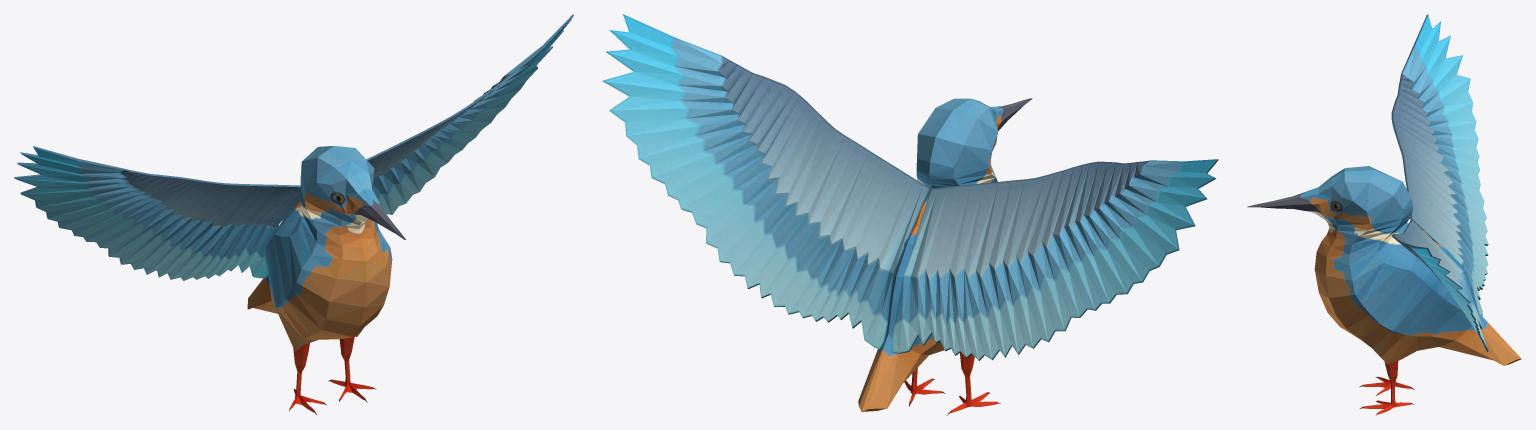
File: Kingfisher_01.FBX
3 renders of one model, left to right at view 1: azimuth 30°, elevation 25°; view 2: azimuth 150°, elevation 25°; view 3: azimuth 270°, elevation 25°, orthographic. The views are drawn at different scales.
Parts seen in each view (by area): view 1: Kingfisher_Right_Wing_01, Kingfisher_01, Kingfisher_Left_Wing_01, Kingfisher_Left_Leg_01, Kingfisher_Right_Leg_01; view 2: Kingfisher_Left_Wing_01, Kingfisher_Right_Wing_01, Kingfisher_01, Kingfisher_Right_Leg_01; view 3: Kingfisher_01, Kingfisher_Right_Wing_01, Kingfisher_Left_Wing_01, Kingfisher_Left_Leg_01, Kingfisher_Right_Leg_01.
Boxes of the visible parts, bbox=[...] form: Kingfisher_Right_Wing_01: bbox=[14, 146, 300, 280]; Kingfisher_01: bbox=[247, 146, 405, 351]; Kingfisher_Left_Wing_01: bbox=[366, 14, 573, 214]; Kingfisher_Left_Leg_01: bbox=[328, 336, 376, 402]; Kingfisher_Right_Leg_01: bbox=[289, 343, 326, 414]; Kingfisher_Left_Wing_01: bbox=[602, 14, 930, 348]; Kingfisher_Right_Wing_01: bbox=[891, 159, 1218, 360]; Kingfisher_01: bbox=[858, 98, 1032, 411]; Kingfisher_Right_Leg_01: bbox=[946, 352, 1000, 415]; Kingfisher_01: bbox=[1247, 166, 1521, 365]; Kingfisher_Right_Wing_01: bbox=[1391, 14, 1488, 316]; Kingfisher_Left_Wing_01: bbox=[1391, 219, 1488, 351]; Kingfisher_Left_Leg_01: bbox=[1359, 361, 1414, 415]; Kingfisher_Right_Leg_01: bbox=[1359, 376, 1414, 395].
Bounding box in the file's own units: 17.89 × 9.39 × 8.72.
